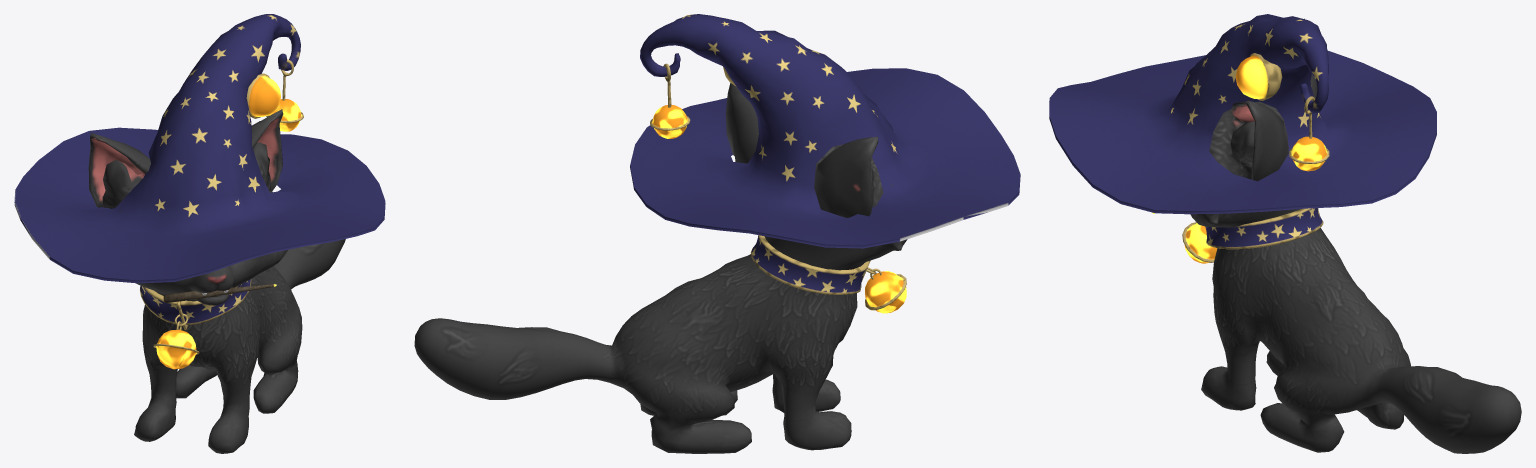
File: wizard_cat.glb
The picture shows the model from 3 angles, left to right: view 1: azimuth 30°, elevation 25°; view 2: azimuth 150°, elevation 25°; view 3: azimuth 270°, elevation 25°; orthographic projection. The views are drawn at different scales.
Parts seen in each view (by area): view 1: hat_LP, cat_LP, shev, pop_LP, zash_LP, object 9, pop_LP.002; view 2: hat_LP, cat_LP, shev, pop_LP, pop_LP.002; view 3: hat_LP, cat_LP, shev, zash_LP, pop_LP.002, pop_LP.
Boxes of the visible parts, x1,y1,x2,y2 form: hat_LP: (14, 14, 385, 283); cat_LP: (88, 109, 345, 453); shev: (140, 279, 251, 325); pop_LP: (153, 301, 199, 369); zash_LP: (246, 73, 280, 118); object 9: (163, 284, 276, 302); pop_LP.002: (266, 99, 303, 131); hat_LP: (630, 14, 1020, 248); cat_LP: (414, 83, 907, 453); shev: (750, 235, 869, 294); pop_LP: (861, 260, 906, 313); pop_LP.002: (650, 104, 690, 138); hat_LP: (1049, 14, 1436, 214); cat_LP: (1190, 18, 1521, 453); shev: (1205, 208, 1323, 249); zash_LP: (1235, 53, 1282, 100); pop_LP.002: (1289, 136, 1329, 171); pop_LP: (1182, 222, 1217, 263).
Bounding box in the file's own units: 4.79 × 4.11 × 4.28.
2 materials, 2 textured.
